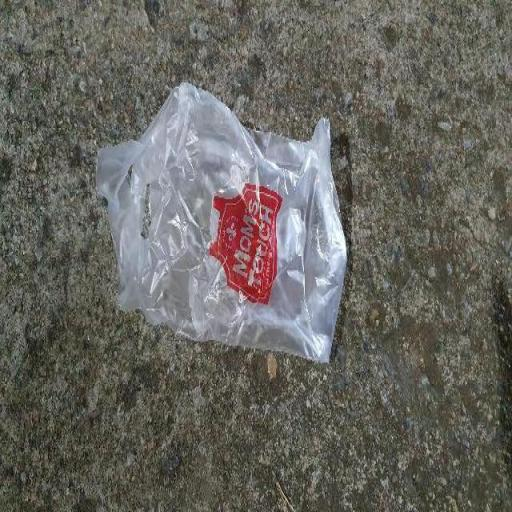plastic-bag: (92, 77, 350, 365)
